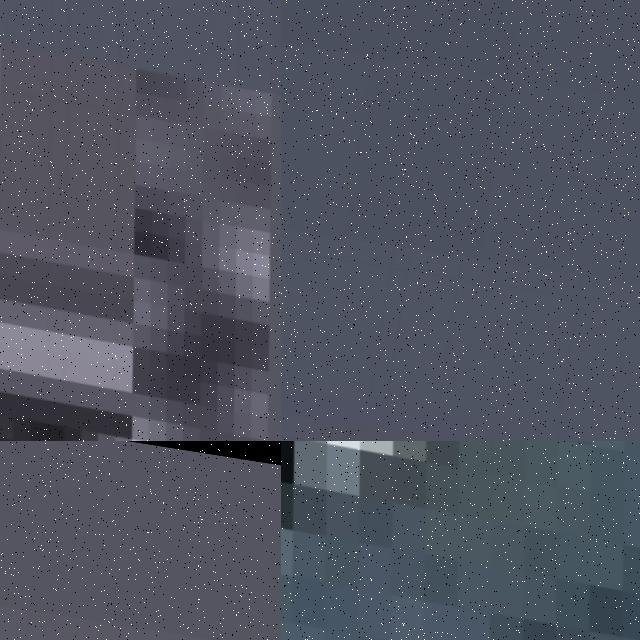0: (0, 0, 281, 441)
drone: (281, 441, 640, 640)
